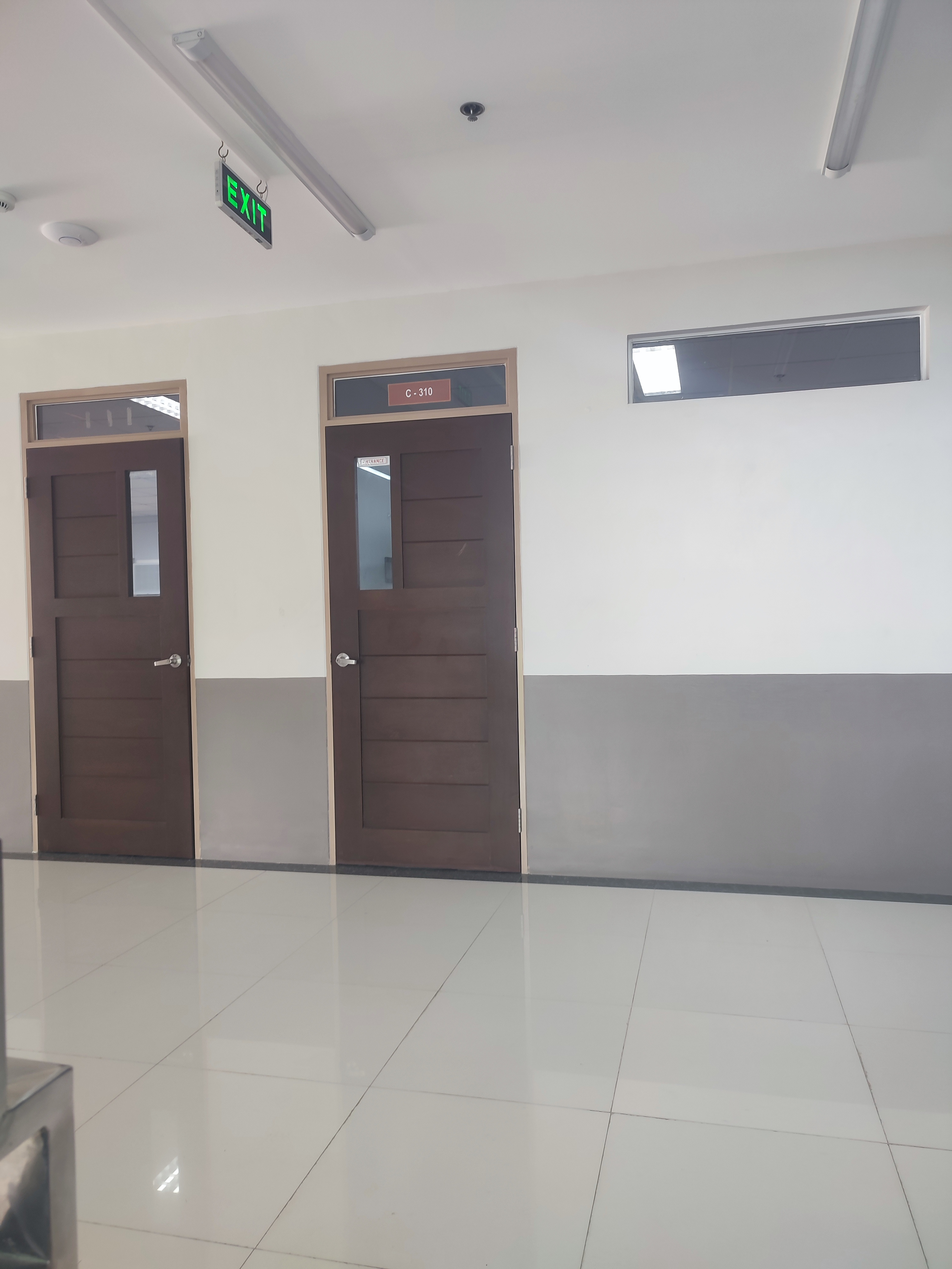door: (317, 348, 527, 884), (21, 381, 195, 863)
